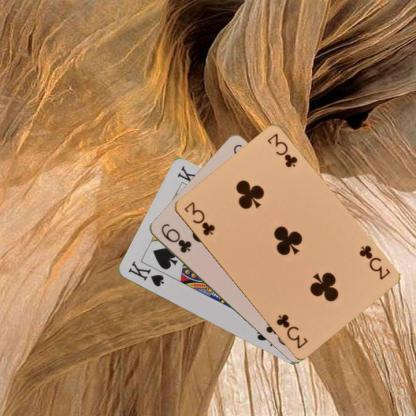3c: (356, 243, 391, 281), (182, 199, 216, 237)
6c: (158, 221, 192, 254)
Ks: (125, 258, 165, 288)
